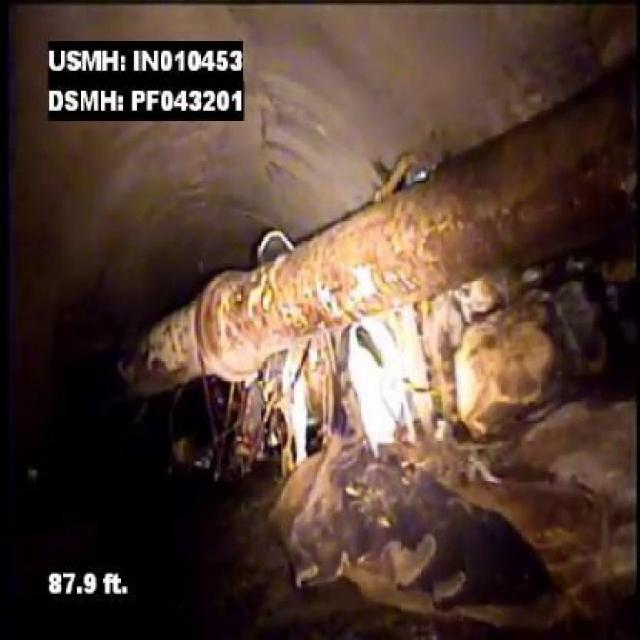Obstacle: (266, 397, 631, 621)
Utility intrusion: (98, 64, 632, 396)
